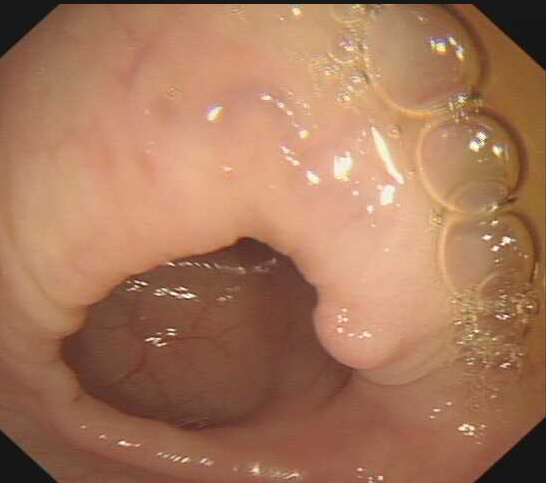others: (303, 297, 416, 371)
